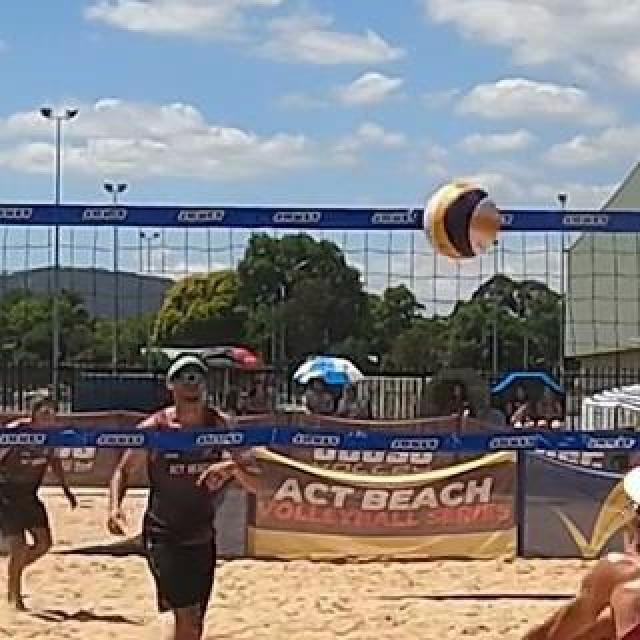volleyball: (427, 182, 503, 258)
